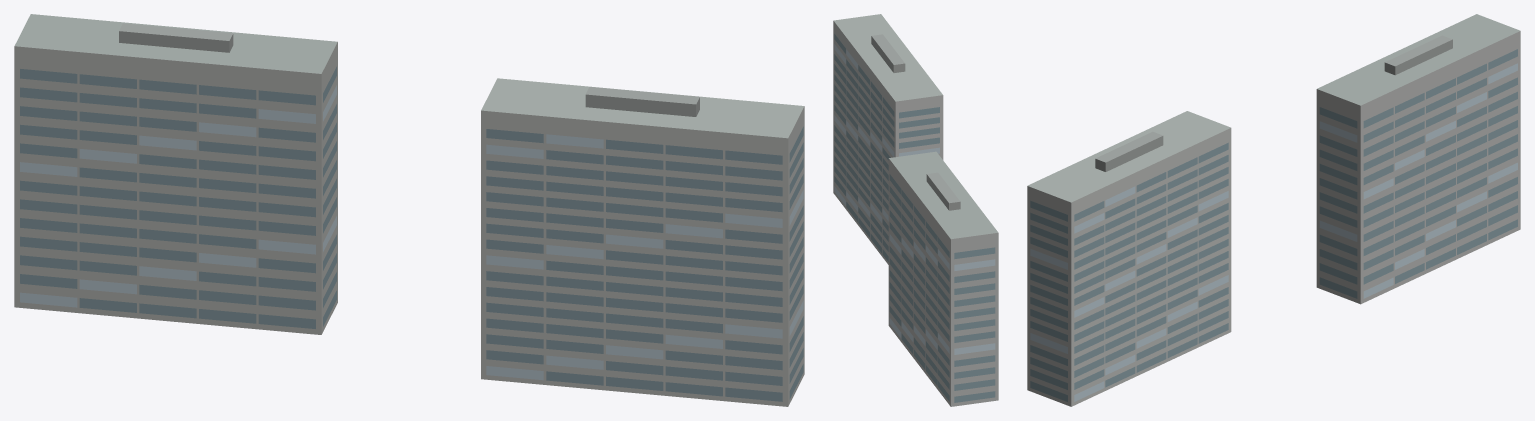
The model's file is apt-a13985201.glb.
3 views of the same model, side by side, from view 1: azimuth 30°, elevation 25°; view 2: azimuth 150°, elevation 25°; view 3: azimuth 270°, elevation 25° (orthographic). The views are drawn at different scales.
Parts seen in each view (by area): view 1: apt-a13985201; view 2: apt-a13985201; view 3: apt-a13985201.
Part boxes in pixels (<box>): apt-a13985201: <box>14,14,804,406</box>; apt-a13985201: <box>833,14,998,406</box>; apt-a13985201: <box>1027,14,1520,406</box>.
Bounding box in the file's own units: 89.6 × 46 × 96.17.
